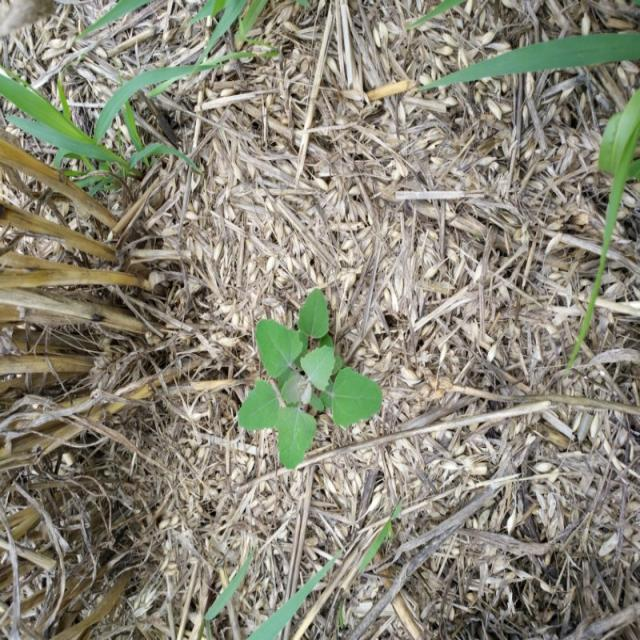goosefoots: (221, 285, 385, 478)
